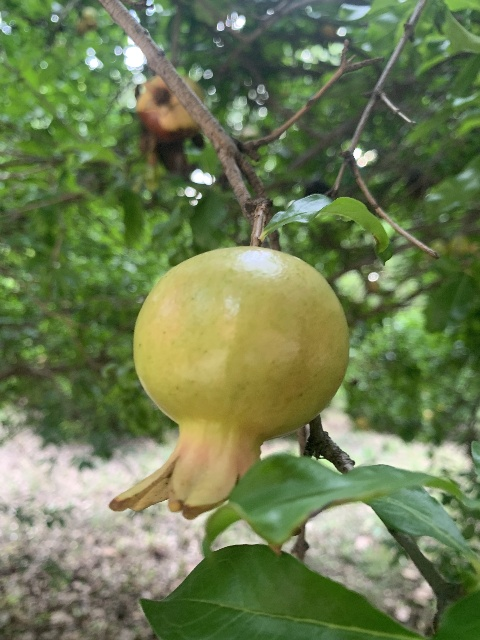mid-growth: (108, 246, 349, 522)
